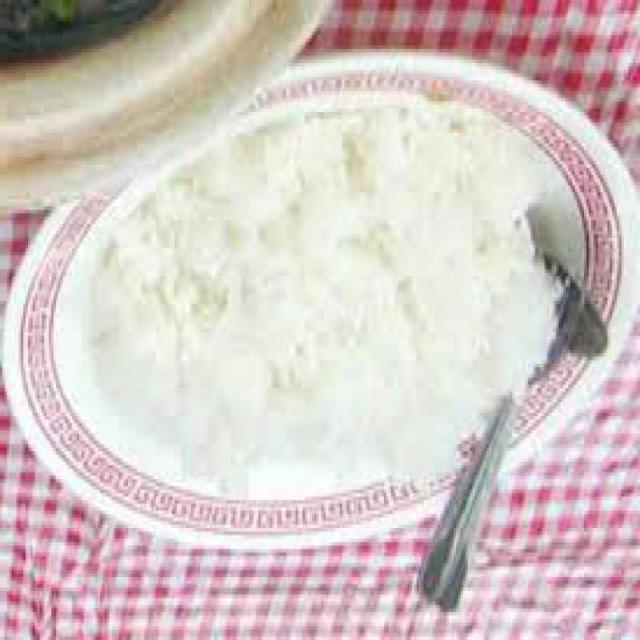nasi_putih: (96, 114, 554, 484)
